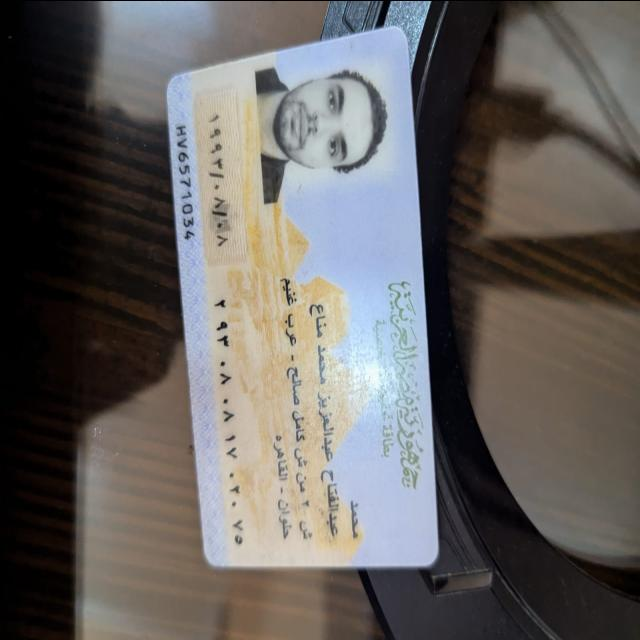id_card: (156, 15, 445, 581)
